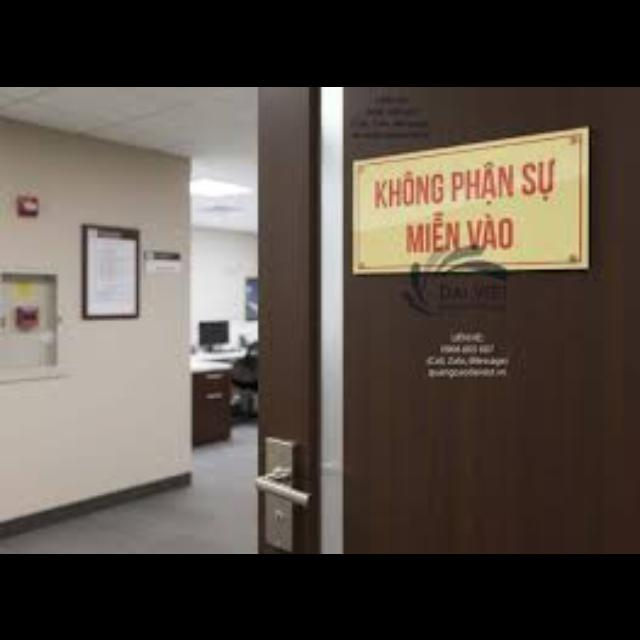no_entry: (353, 127, 586, 271)
